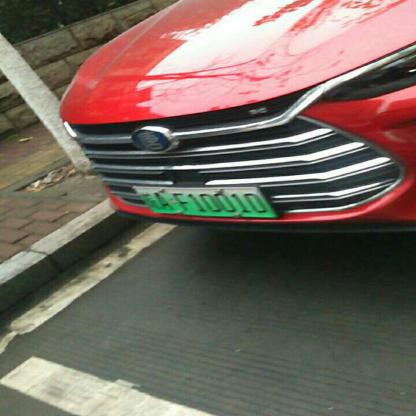lp: (134, 187, 278, 216)
